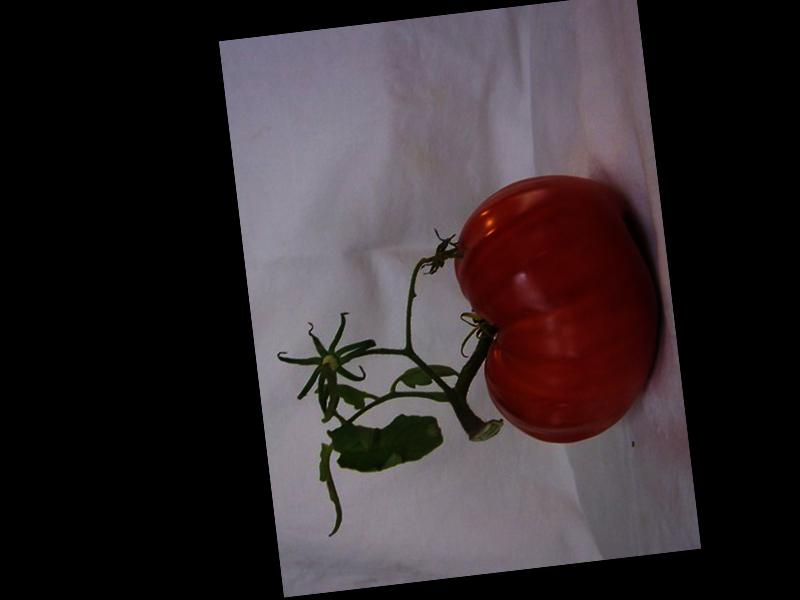Tomato: (445, 163, 674, 454)
